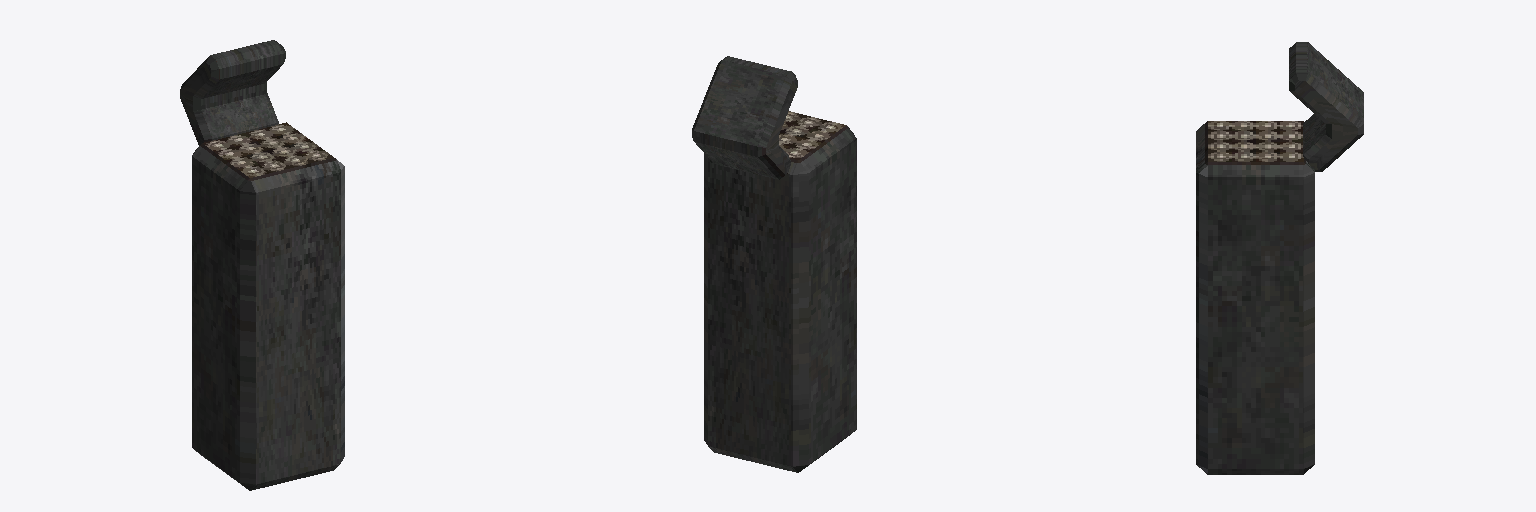
3 views of the same model, side by side, from view 1: azimuth 30°, elevation 25°; view 2: azimuth 150°, elevation 25°; view 3: azimuth 270°, elevation 25° (orthographic).
Parts seen in each view (by area): view 1: ammo_ingram.ammo_ingram.smd.mesh_0; view 2: ammo_ingram.ammo_ingram.smd.mesh_0; view 3: ammo_ingram.ammo_ingram.smd.mesh_0.
Boxes of the visible parts, <box> form: ammo_ingram.ammo_ingram.smd.mesh_0: <box>180,40,344,490</box>; ammo_ingram.ammo_ingram.smd.mesh_0: <box>692,56,856,472</box>; ammo_ingram.ammo_ingram.smd.mesh_0: <box>1196,42,1363,474</box>.
Bounding box in the file's own units: 7.78 × 28.17 × 10.83.
1 materials, 1 textured.